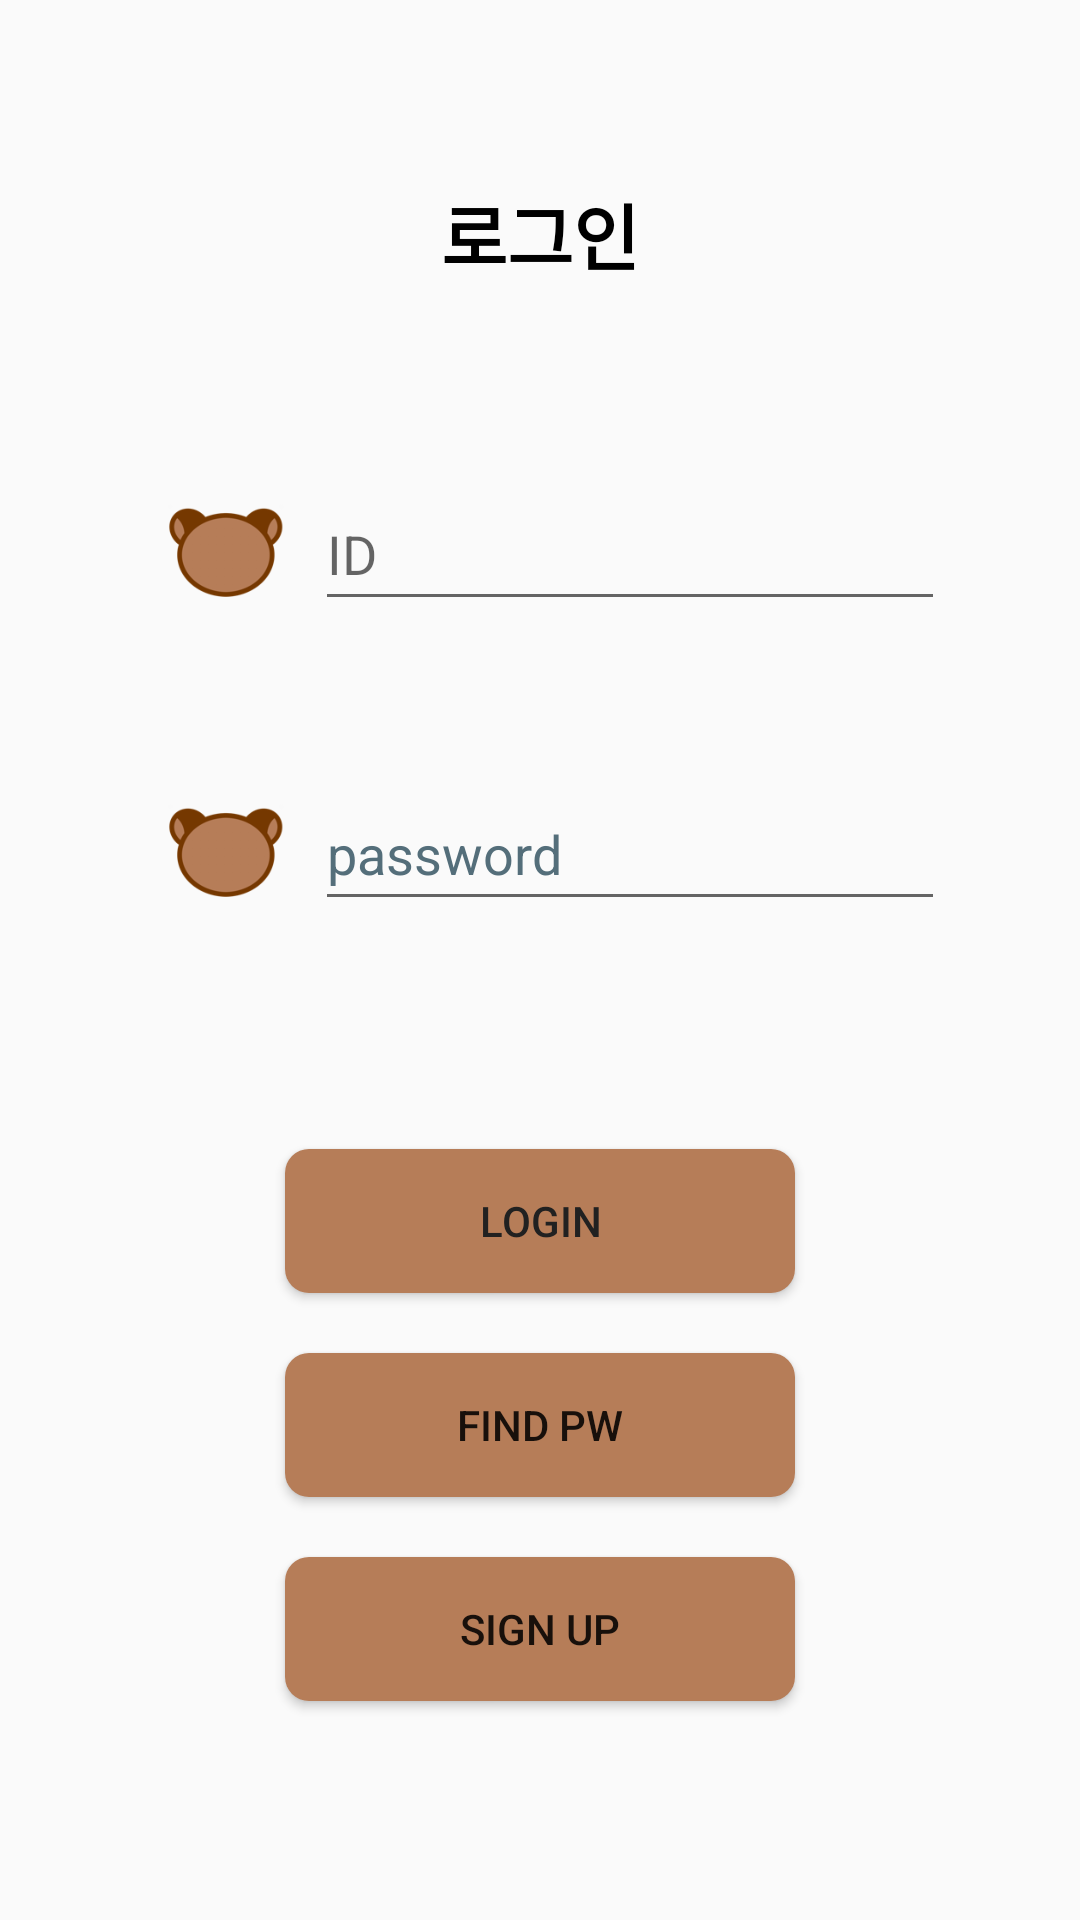

Point at icon controls on the screen. Image size 1080 x 1920, points as (x=x, y=y).
bear: (x=226, y=552), (x=226, y=852)
